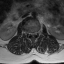CCS_stenosis: (31, 31, 33, 38)
LFS_normal: (35, 30, 37, 37)
LLS_normal: (33, 31, 35, 37)
RFS_normal: (28, 30, 30, 37)
RLS_normal: (30, 31, 31, 37)
